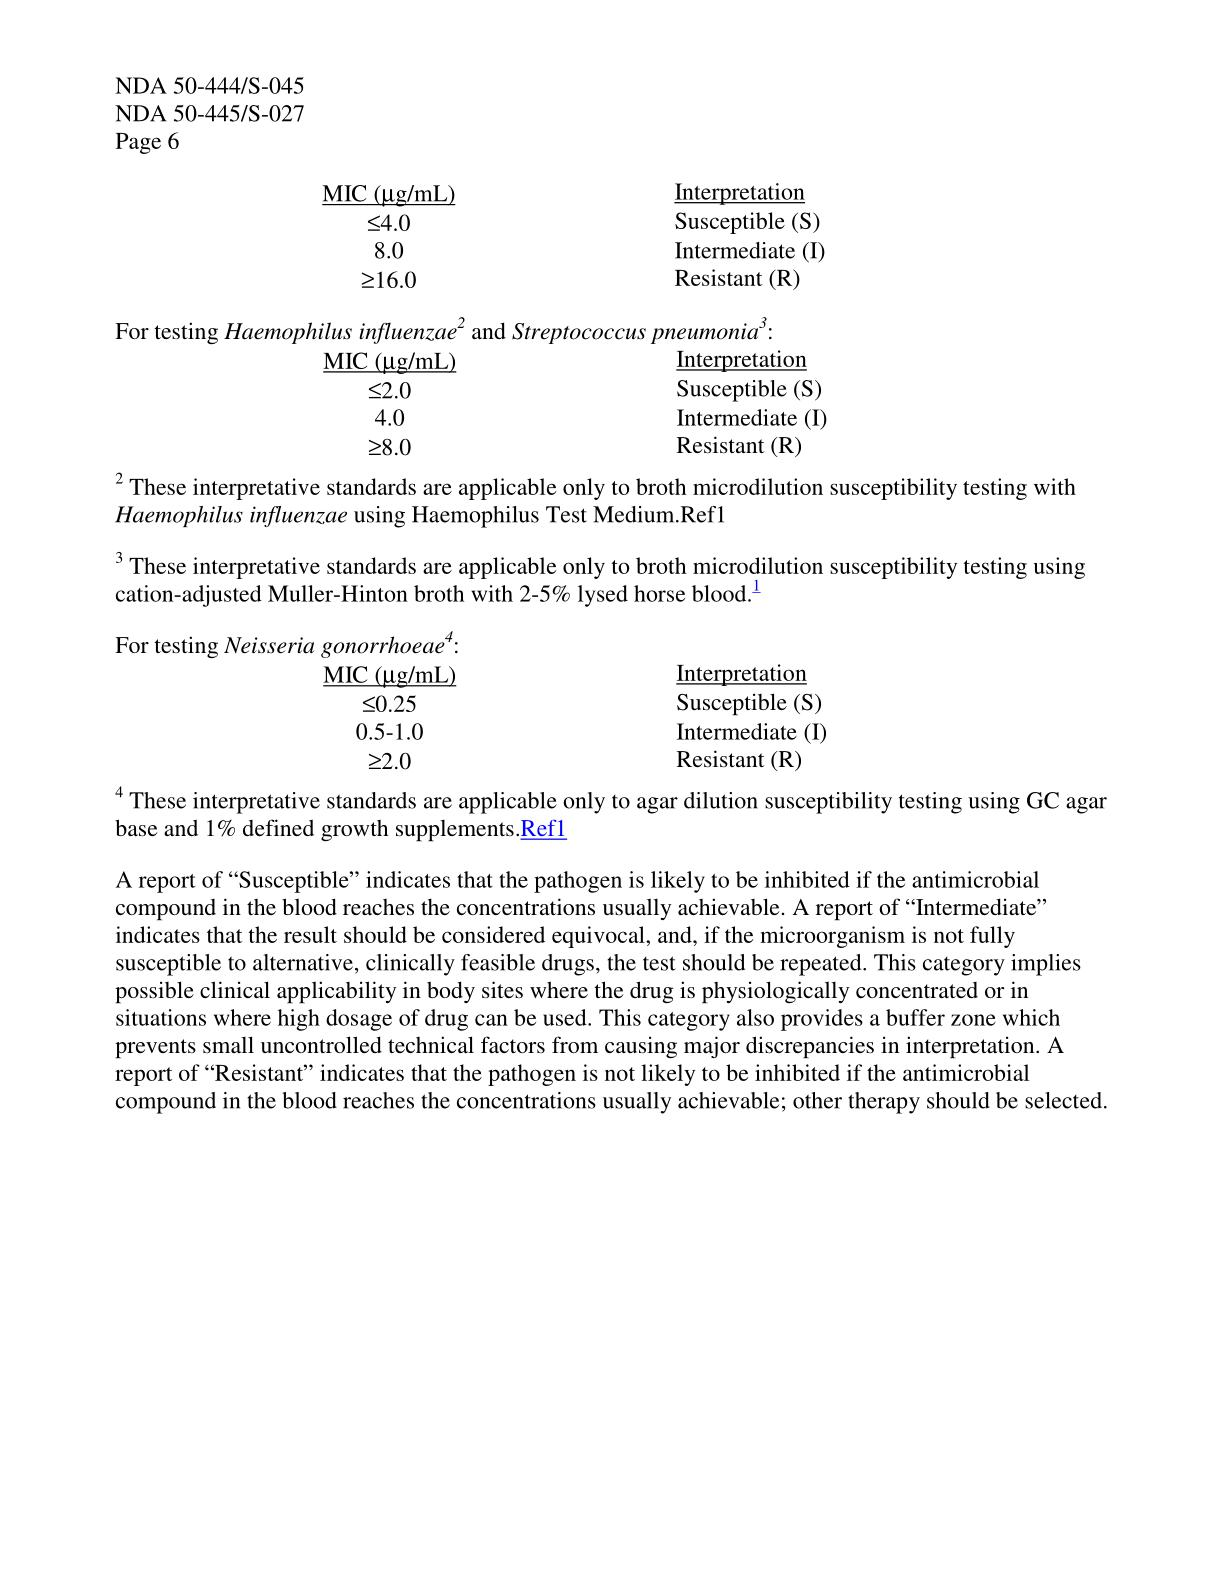nolines: (321, 663, 829, 770), (321, 183, 828, 288), (323, 350, 825, 454)
